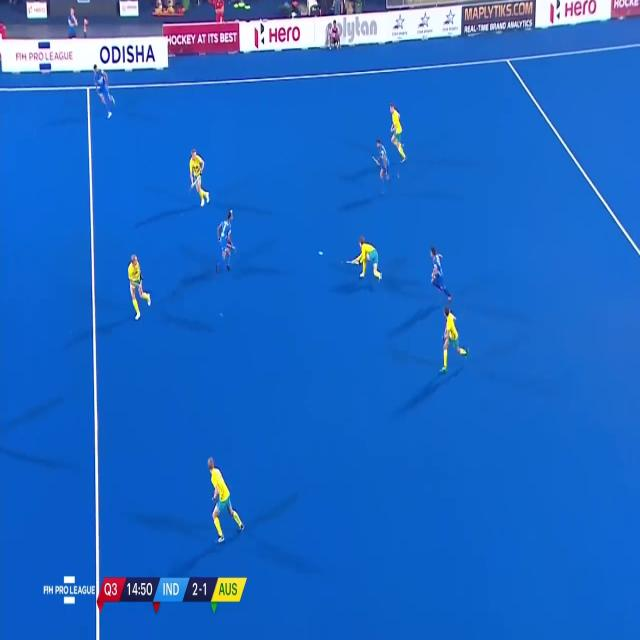ball: (317, 247, 325, 260)
